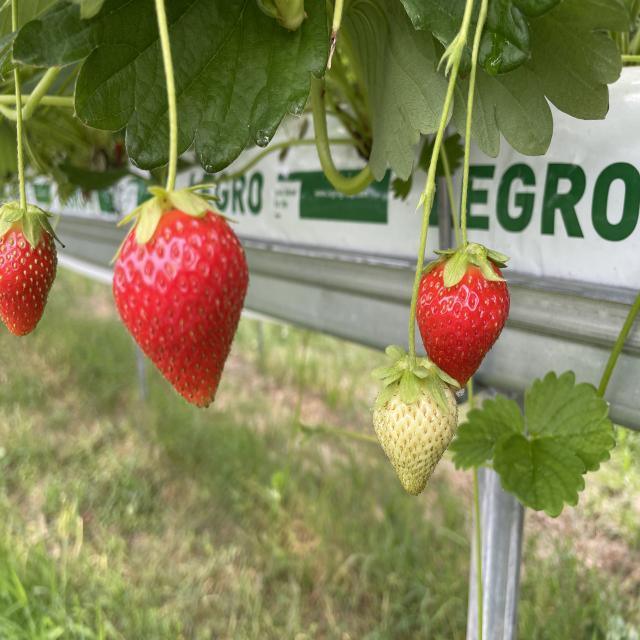stem: (376, 0, 473, 410), (119, 0, 220, 243), (431, 139, 504, 287), (0, 64, 54, 247)
strawberryNR: (373, 386, 455, 493)
strawberryR: (112, 212, 247, 403), (420, 264, 508, 384), (0, 227, 55, 335)
